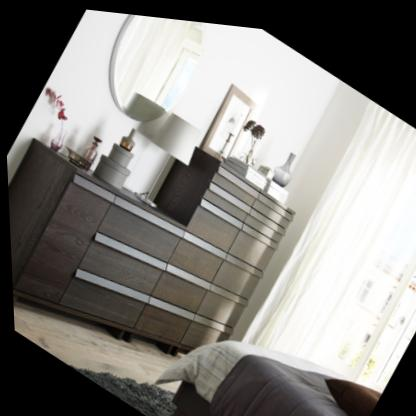Bed: (145, 270, 386, 416)
